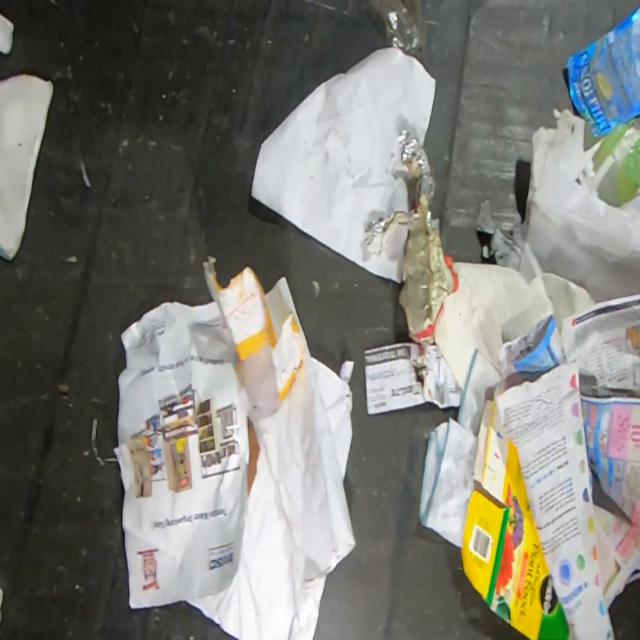cardboard: (460, 394, 572, 639)
soft_plastic: (363, 126, 458, 347), (366, 0, 427, 63), (602, 116, 640, 209)
